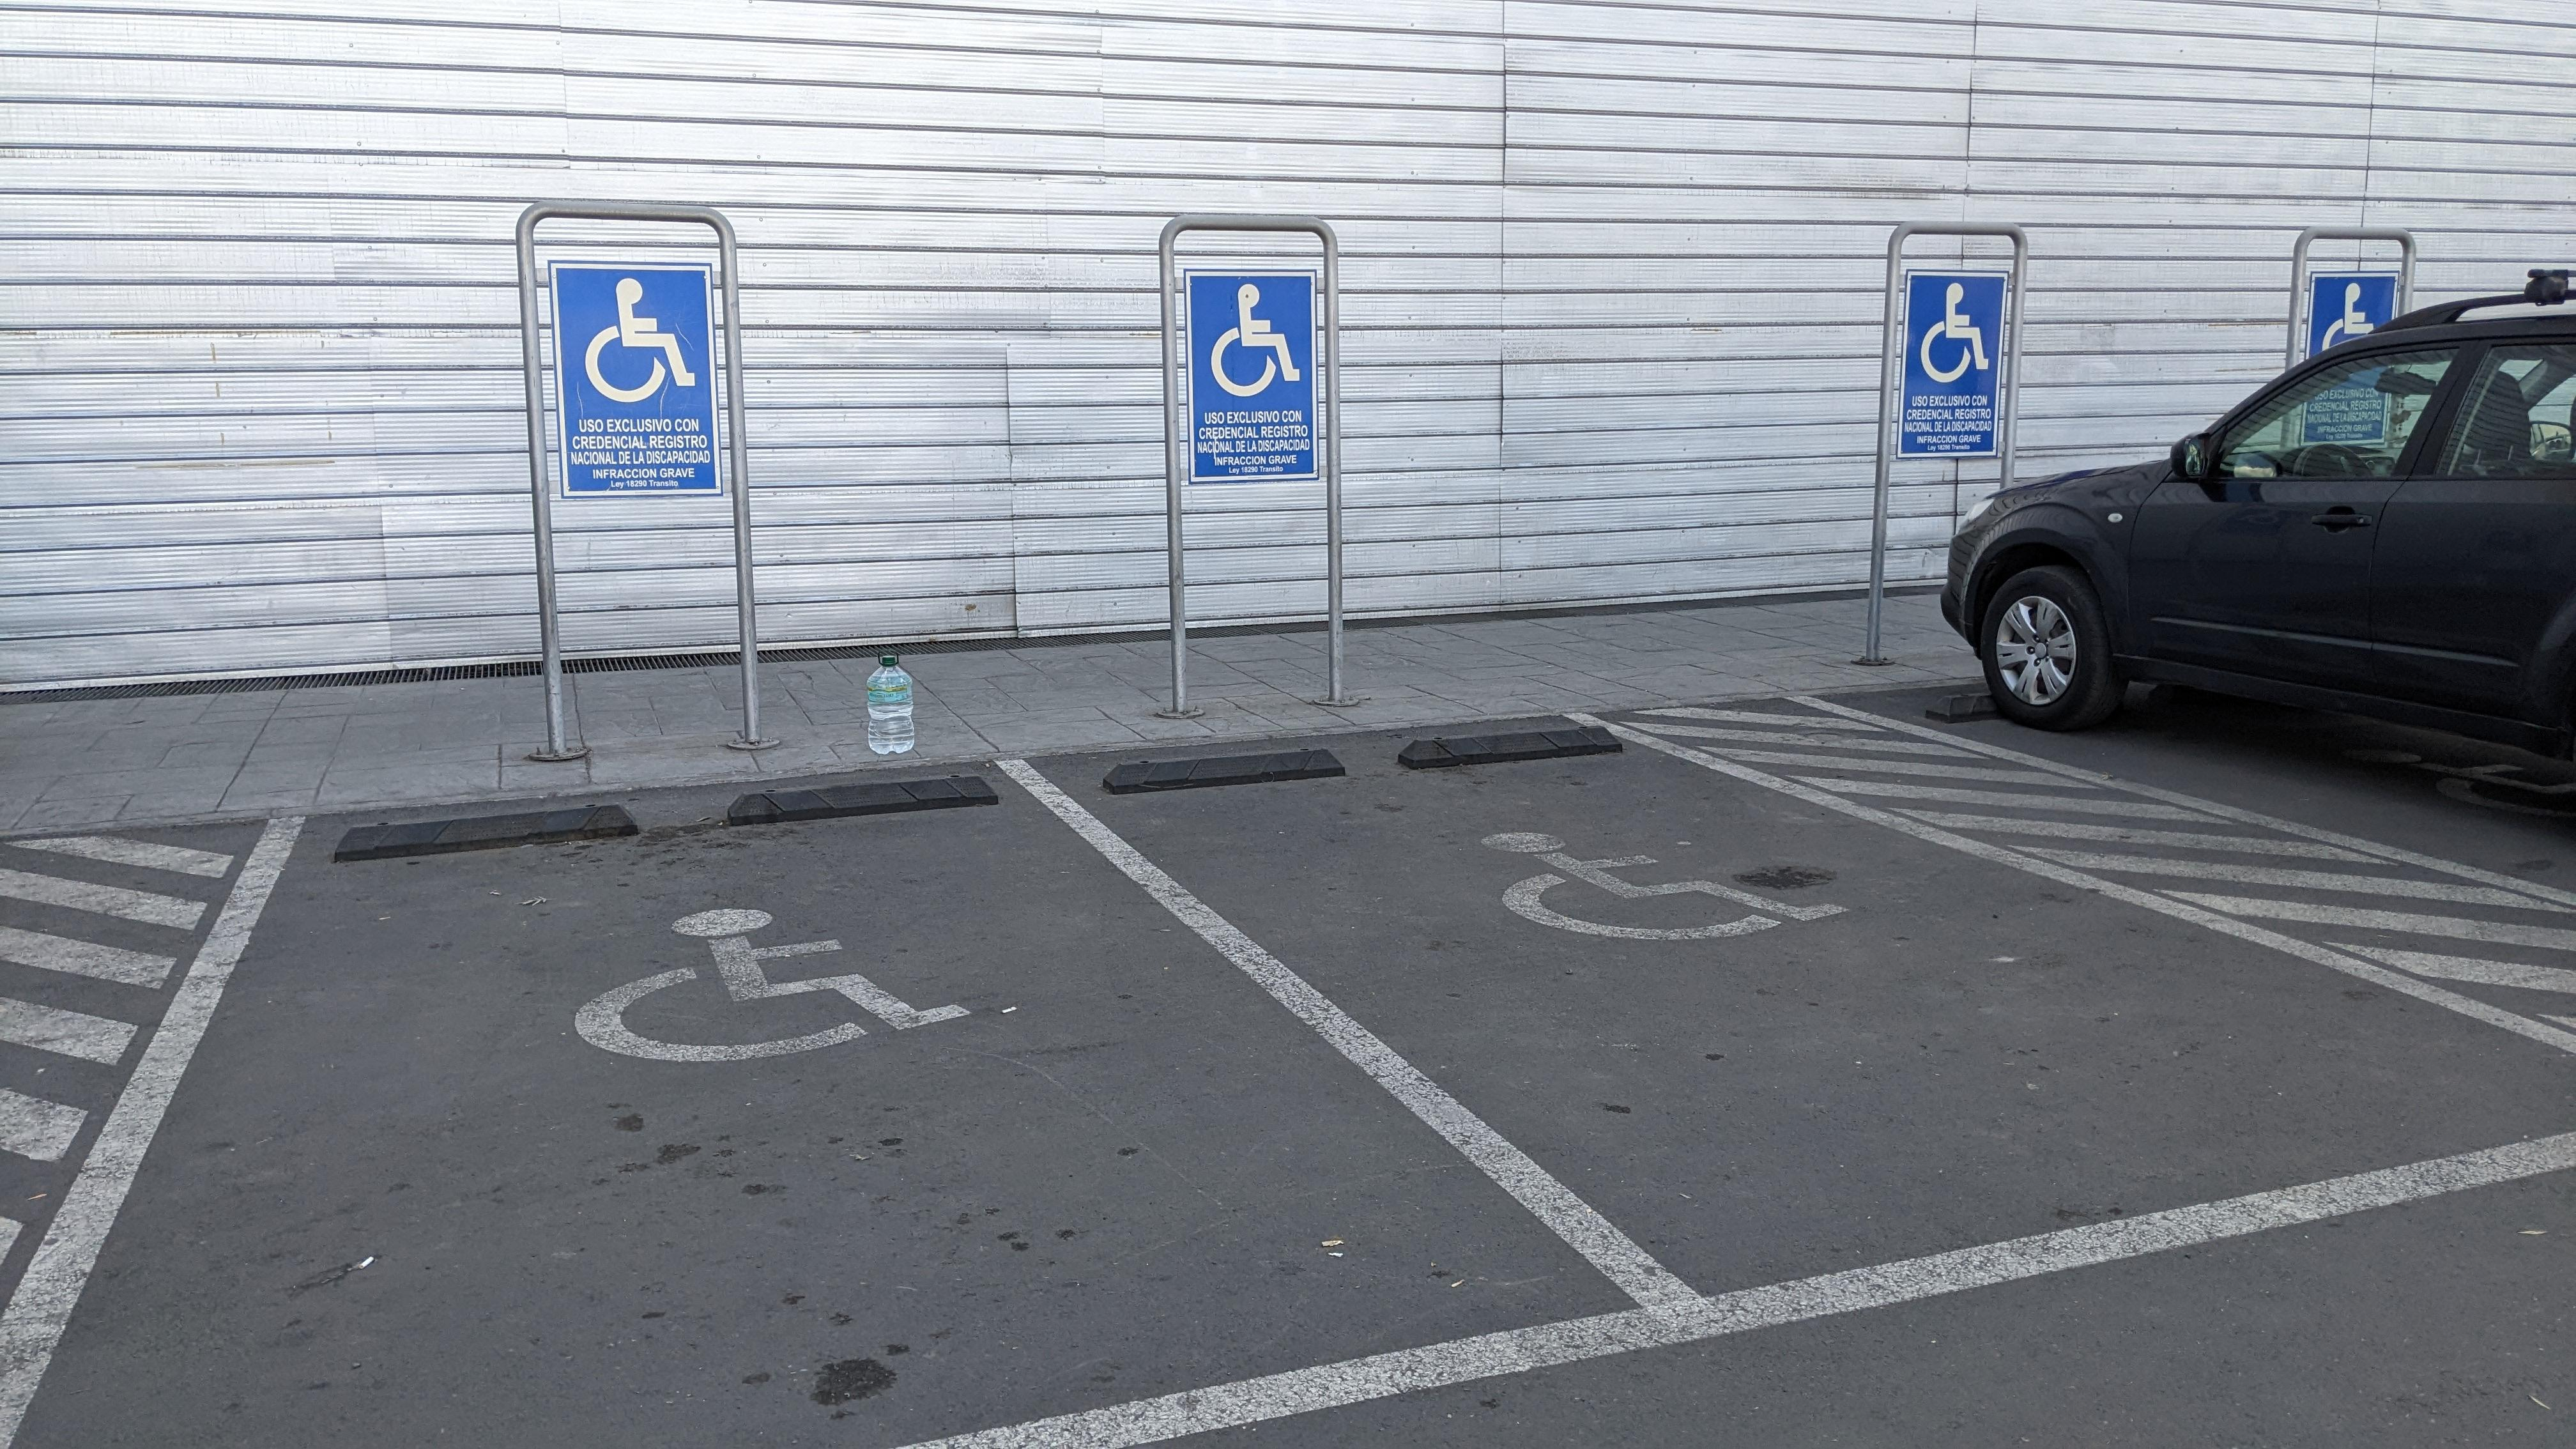handicapped symbol: (570, 904, 977, 1067), (1470, 828, 1858, 943), (580, 276, 699, 405), (1210, 283, 1304, 398), (1920, 281, 1990, 384), (2321, 281, 2378, 375)
